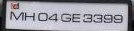character: (9, 10, 24, 21), (37, 11, 48, 22), (24, 11, 34, 22), (60, 12, 71, 22), (82, 12, 92, 23), (103, 13, 113, 24), (113, 13, 123, 24), (71, 12, 80, 23), (48, 12, 57, 22), (93, 13, 102, 23)
